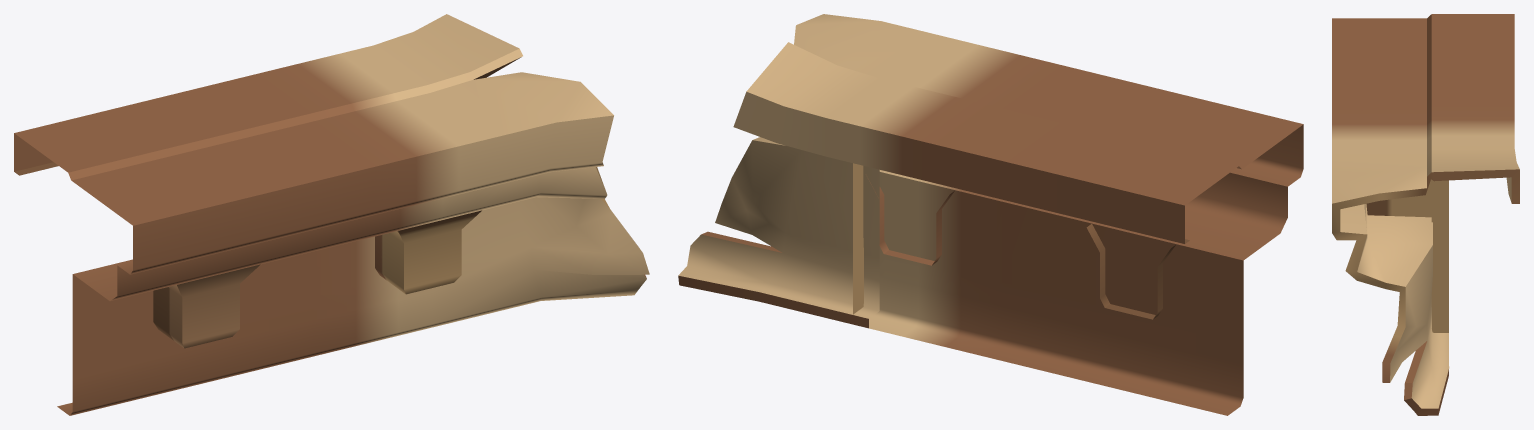
File: DBK_Cornice_C_End.fbx
The picture shows the model from 3 angles, left to right: view 1: azimuth 30°, elevation 25°; view 2: azimuth 150°, elevation 25°; view 3: azimuth 270°, elevation 25°; orthographic projection. The views are drawn at different scales.
Visible parts, largest first — view 1: DBK_Cornice_C_End; view 2: DBK_Cornice_C_End; view 3: DBK_Cornice_C_End.
Boxes of the visible parts, x1,y1,x2,y2 form: DBK_Cornice_C_End: (14,14,649,415); DBK_Cornice_C_End: (678,14,1303,415); DBK_Cornice_C_End: (1332,14,1519,415).
Size of the model in its own units: 154 by 69.53 by 57.97.
